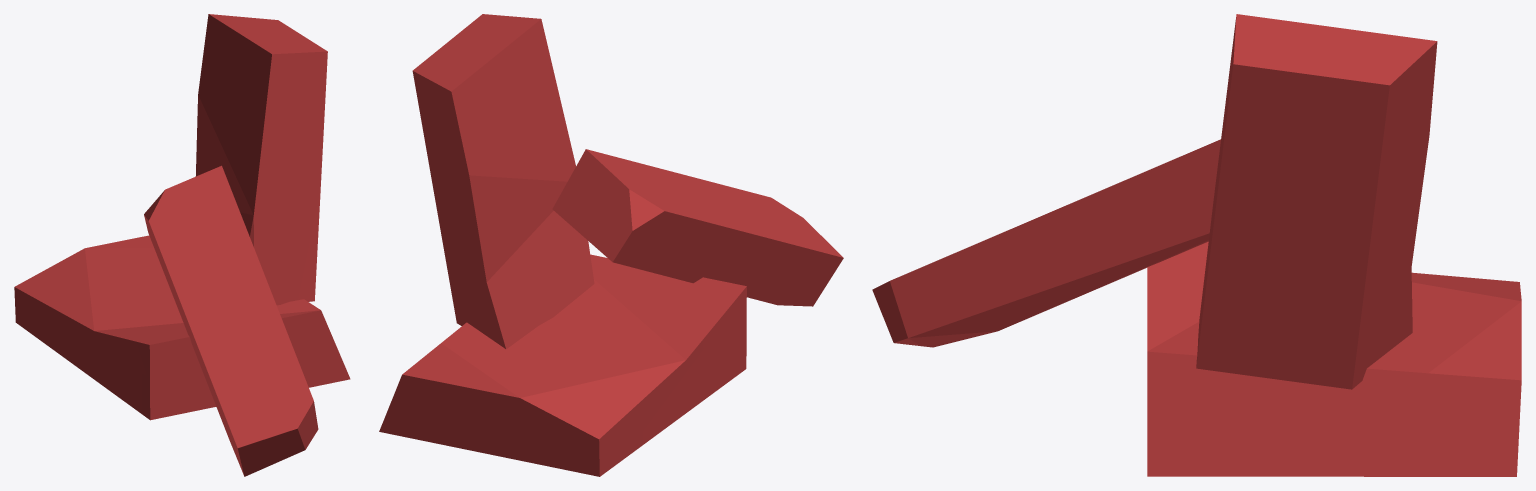
The model's file is ea_arch_wall03_rubble_broken_01b_pre_lev1.glb.
3 views of the same model, side by side, from view 1: azimuth 30°, elevation 25°; view 2: azimuth 150°, elevation 25°; view 3: azimuth 270°, elevation 25° (orthographic). The views are drawn at different scales.
Parts seen in each view (by area): view 1: ea_arch_wall03_rubble_broken_01b_pre_lev1; view 2: ea_arch_wall03_rubble_broken_01b_pre_lev1; view 3: ea_arch_wall03_rubble_broken_01b_pre_lev1.
Boxes of the visible parts, x1,y1,x2,y2 form: ea_arch_wall03_rubble_broken_01b_pre_lev1: [14, 14, 350, 476]; ea_arch_wall03_rubble_broken_01b_pre_lev1: [379, 14, 843, 476]; ea_arch_wall03_rubble_broken_01b_pre_lev1: [872, 14, 1521, 476].
Bounding box in the file's own units: 0.9066 × 1.25 × 1.7.
Materials: 1 (1 with a texture image).
